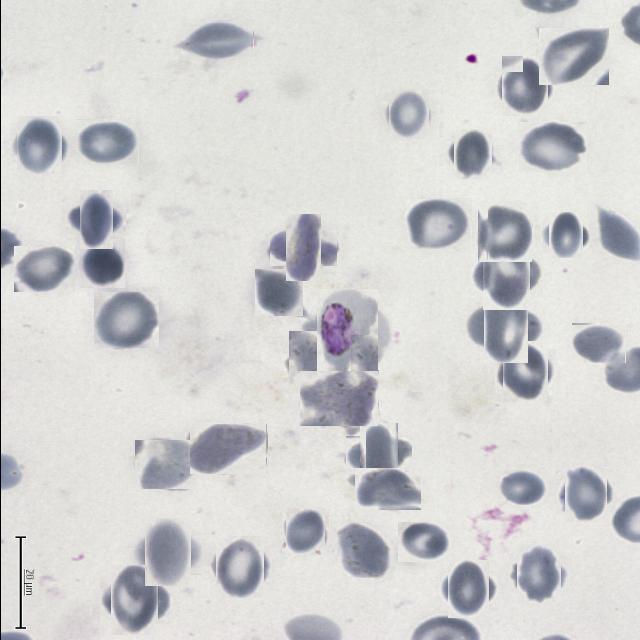red blood cell: (299, 370, 378, 426), (538, 28, 608, 85), (188, 423, 266, 474), (93, 292, 158, 348), (474, 296, 534, 356), (104, 570, 164, 630), (476, 244, 536, 304), (404, 198, 471, 249), (518, 122, 586, 172), (475, 204, 533, 261), (336, 522, 394, 578), (138, 524, 195, 580), (285, 334, 341, 390), (211, 539, 266, 595), (134, 440, 195, 489), (498, 345, 551, 399), (12, 120, 66, 173), (182, 20, 253, 60), (498, 60, 550, 114), (13, 246, 74, 292), (76, 119, 138, 164), (354, 468, 420, 510), (352, 429, 404, 482), (512, 548, 564, 600), (276, 222, 328, 274), (442, 564, 492, 614), (560, 468, 610, 518), (254, 268, 303, 316), (598, 206, 639, 260), (78, 240, 124, 288), (571, 324, 625, 364), (397, 522, 450, 562), (73, 197, 119, 243), (385, 91, 430, 137), (449, 132, 494, 176), (495, 468, 548, 505), (283, 510, 326, 554), (544, 216, 586, 256)
trophozoite: (310, 296, 384, 370)
